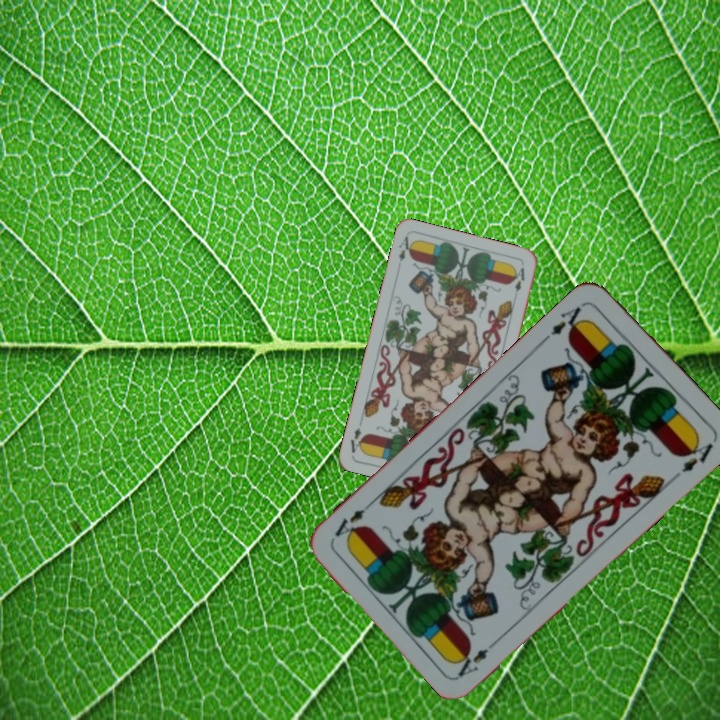EA: (453, 634, 502, 680), (539, 302, 589, 343), (395, 233, 416, 264)
